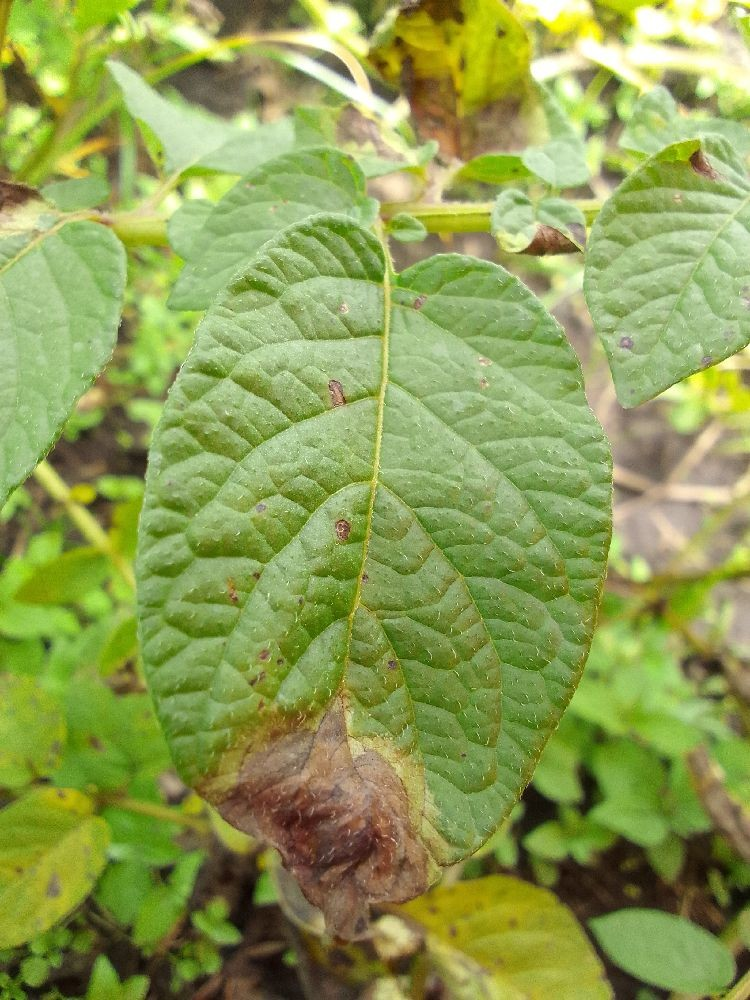late_blight: (32, 664, 749, 999), (521, 260, 750, 658), (316, 0, 558, 250), (138, 35, 338, 141)
